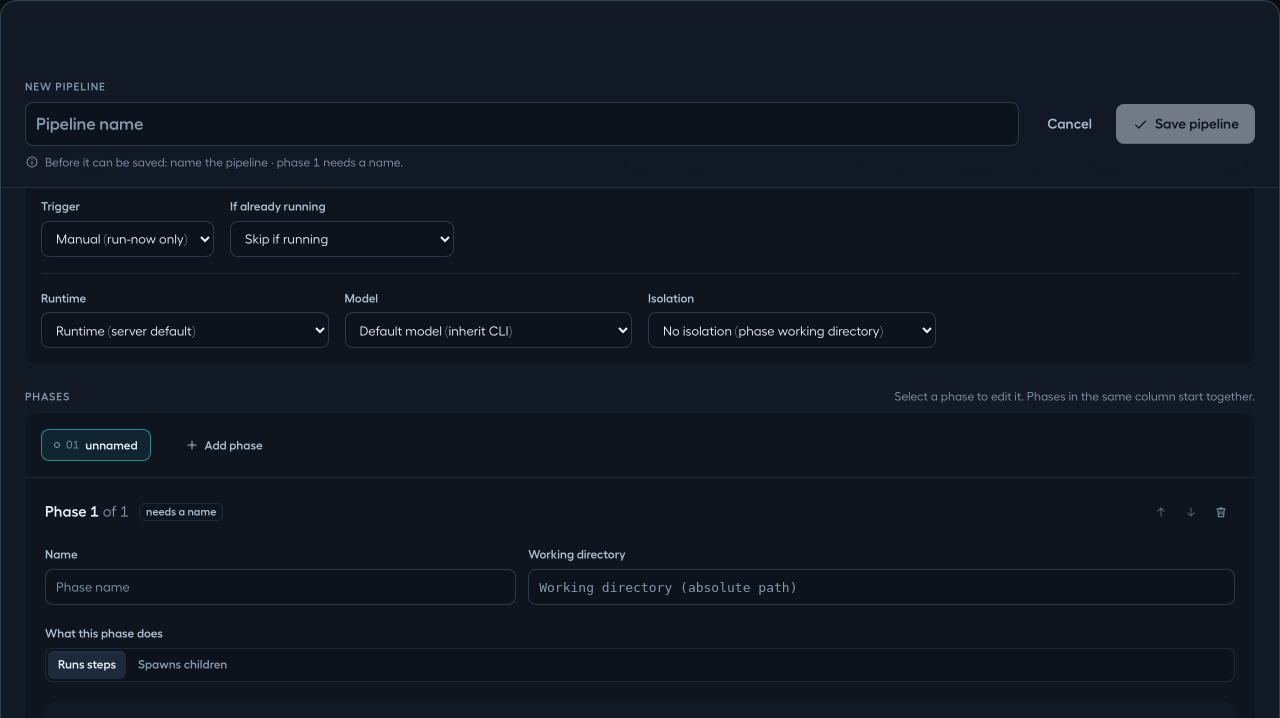
Test: PipelineForm › renders a single phase by default and adds another on '+ add phase'
Expected: the heading "Phase 1 of 1" is shown, [45, 502, 129, 522]
Expected: the text "Phase 2" is not shown
Click the button "Add phase": {"x": 224, "y": 445} [174, 431, 273, 459]
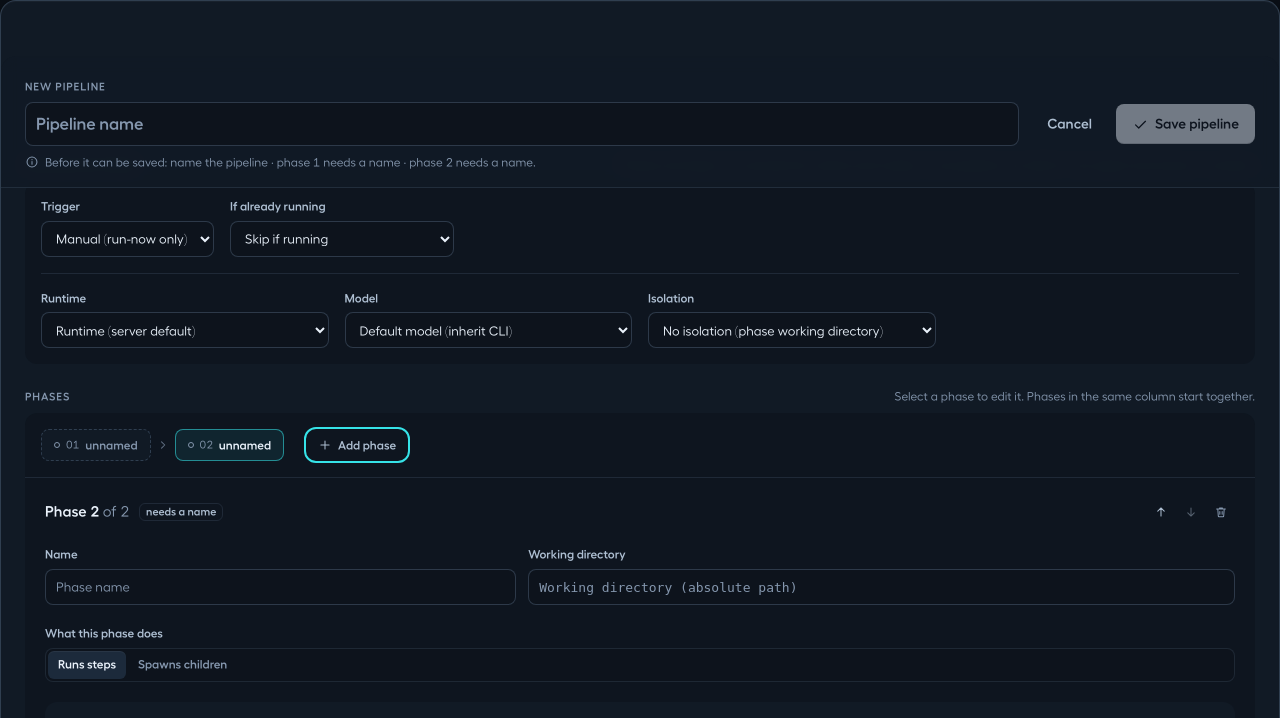
Result: the heading "Phase 2 of 2" is shown at [45, 502, 129, 522]
